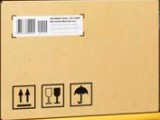stock: (1, 1, 160, 116)
